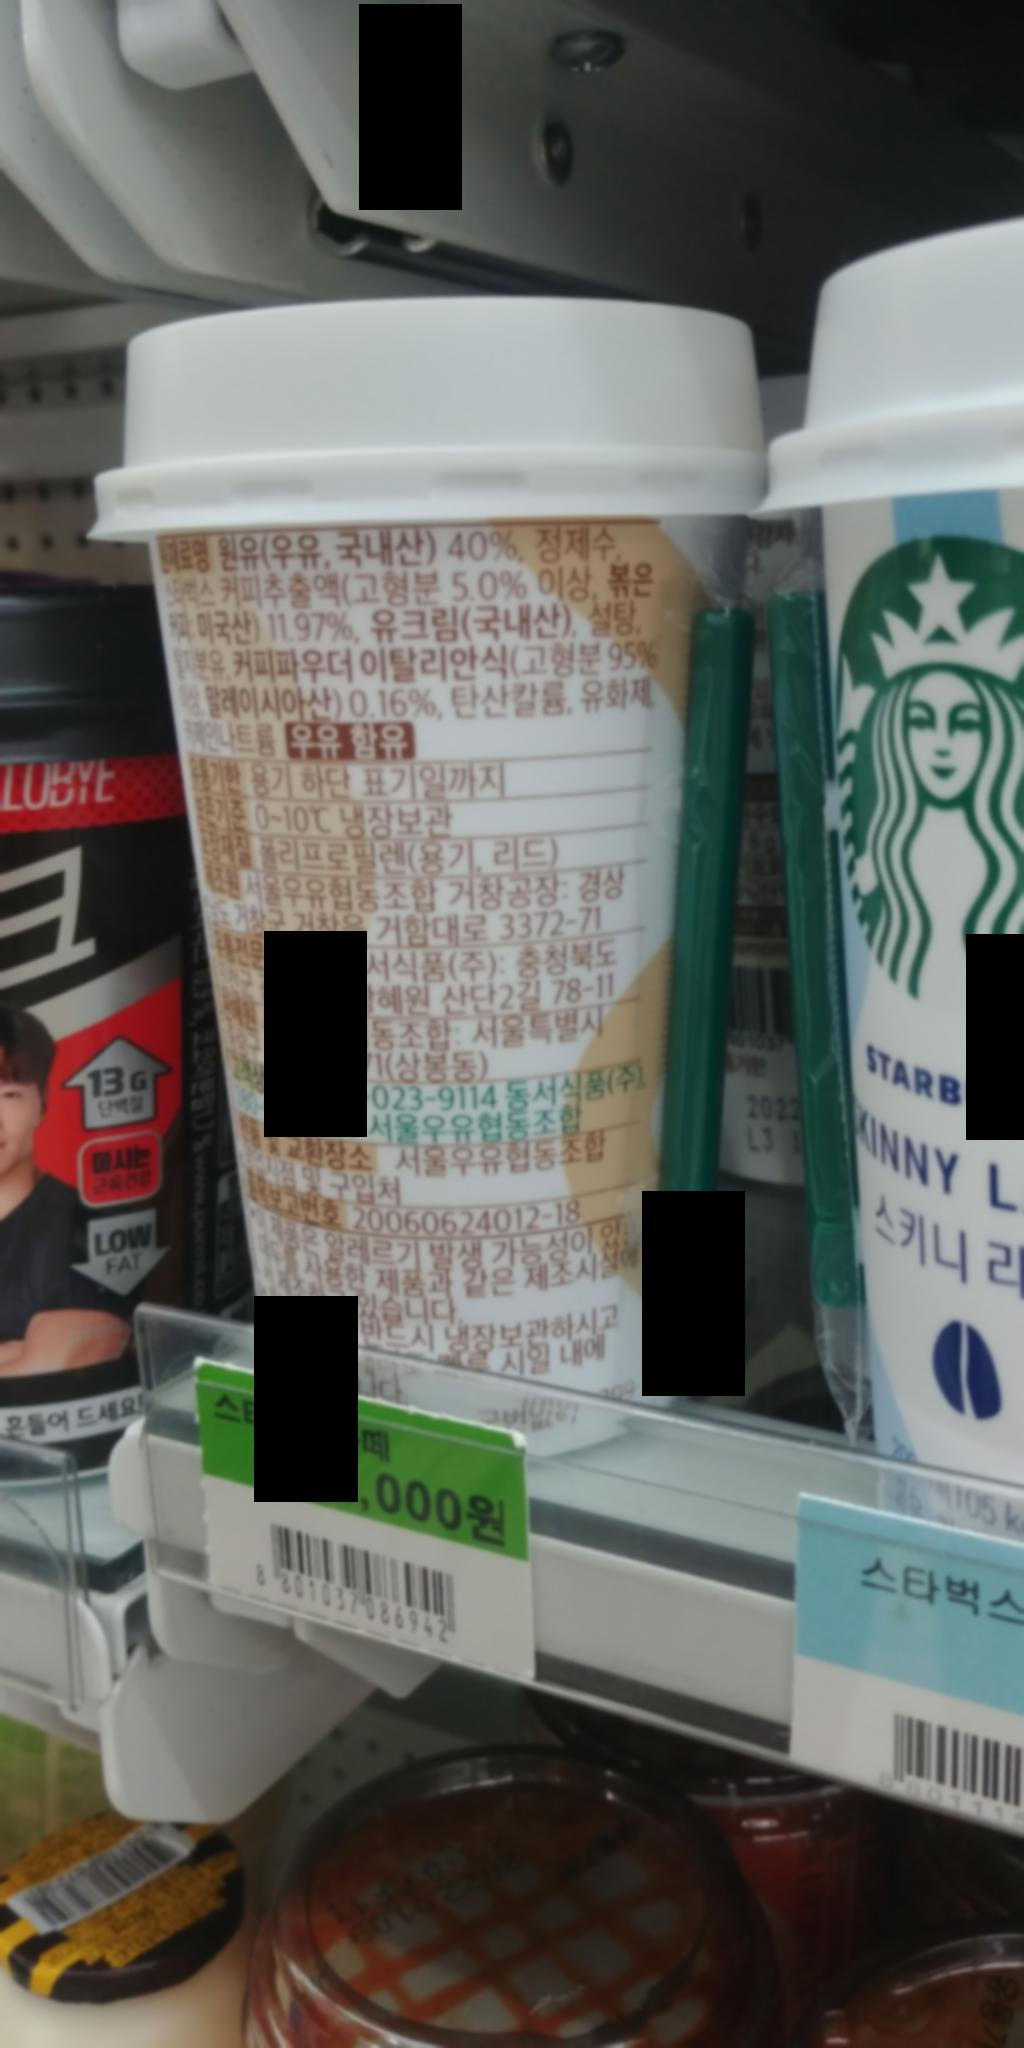starbucks_cafelatte: (97, 298, 772, 1370)
